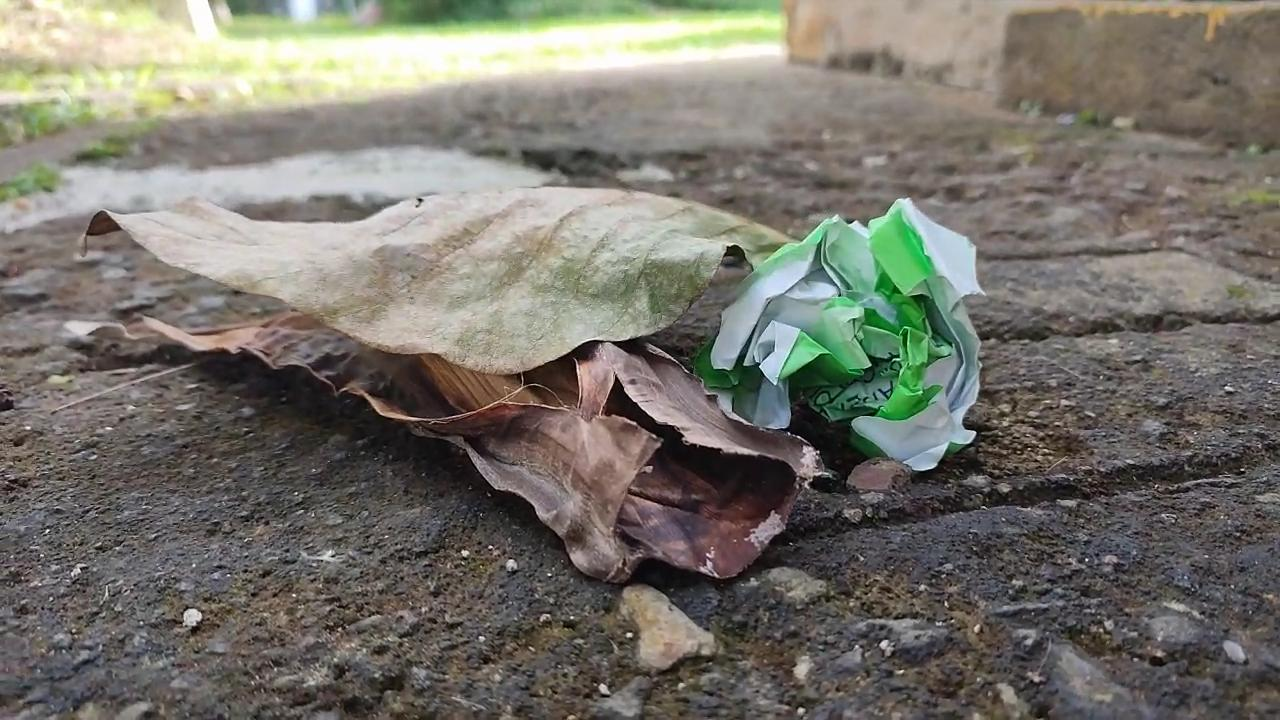Paper: (695, 188, 1002, 486)
